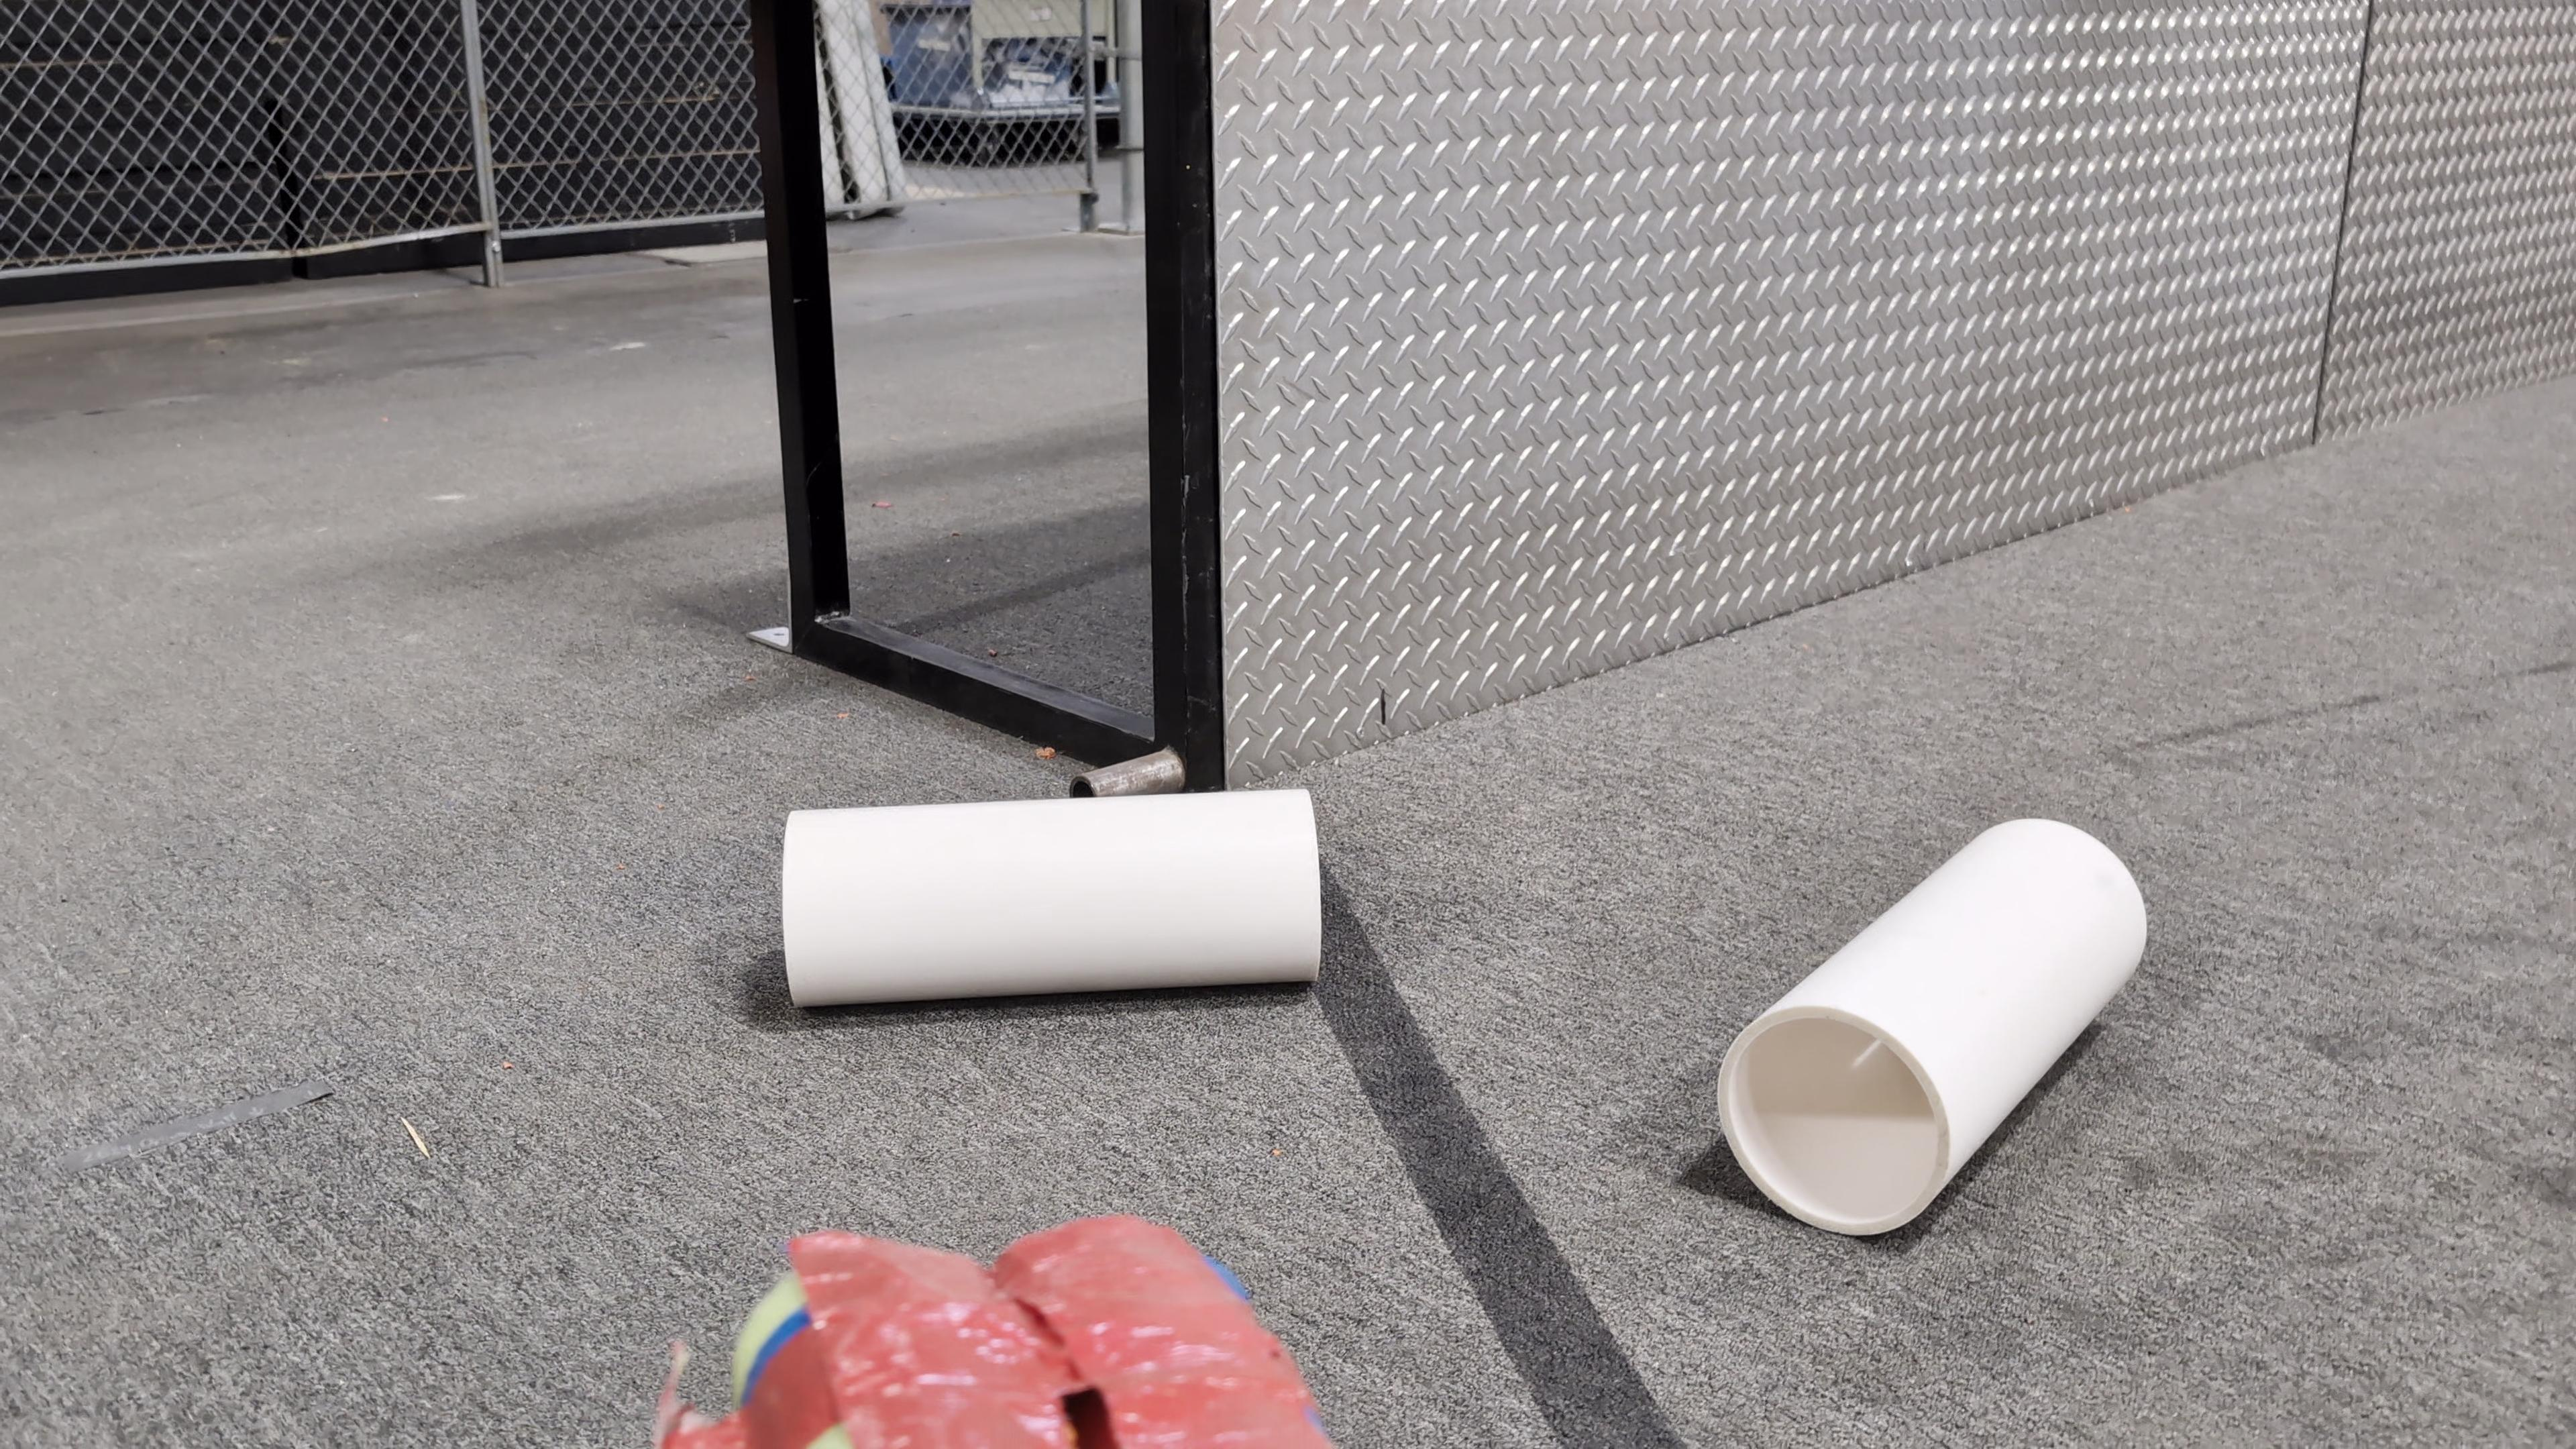coral: (1718, 812, 2148, 1233), (780, 782, 1327, 1005)
